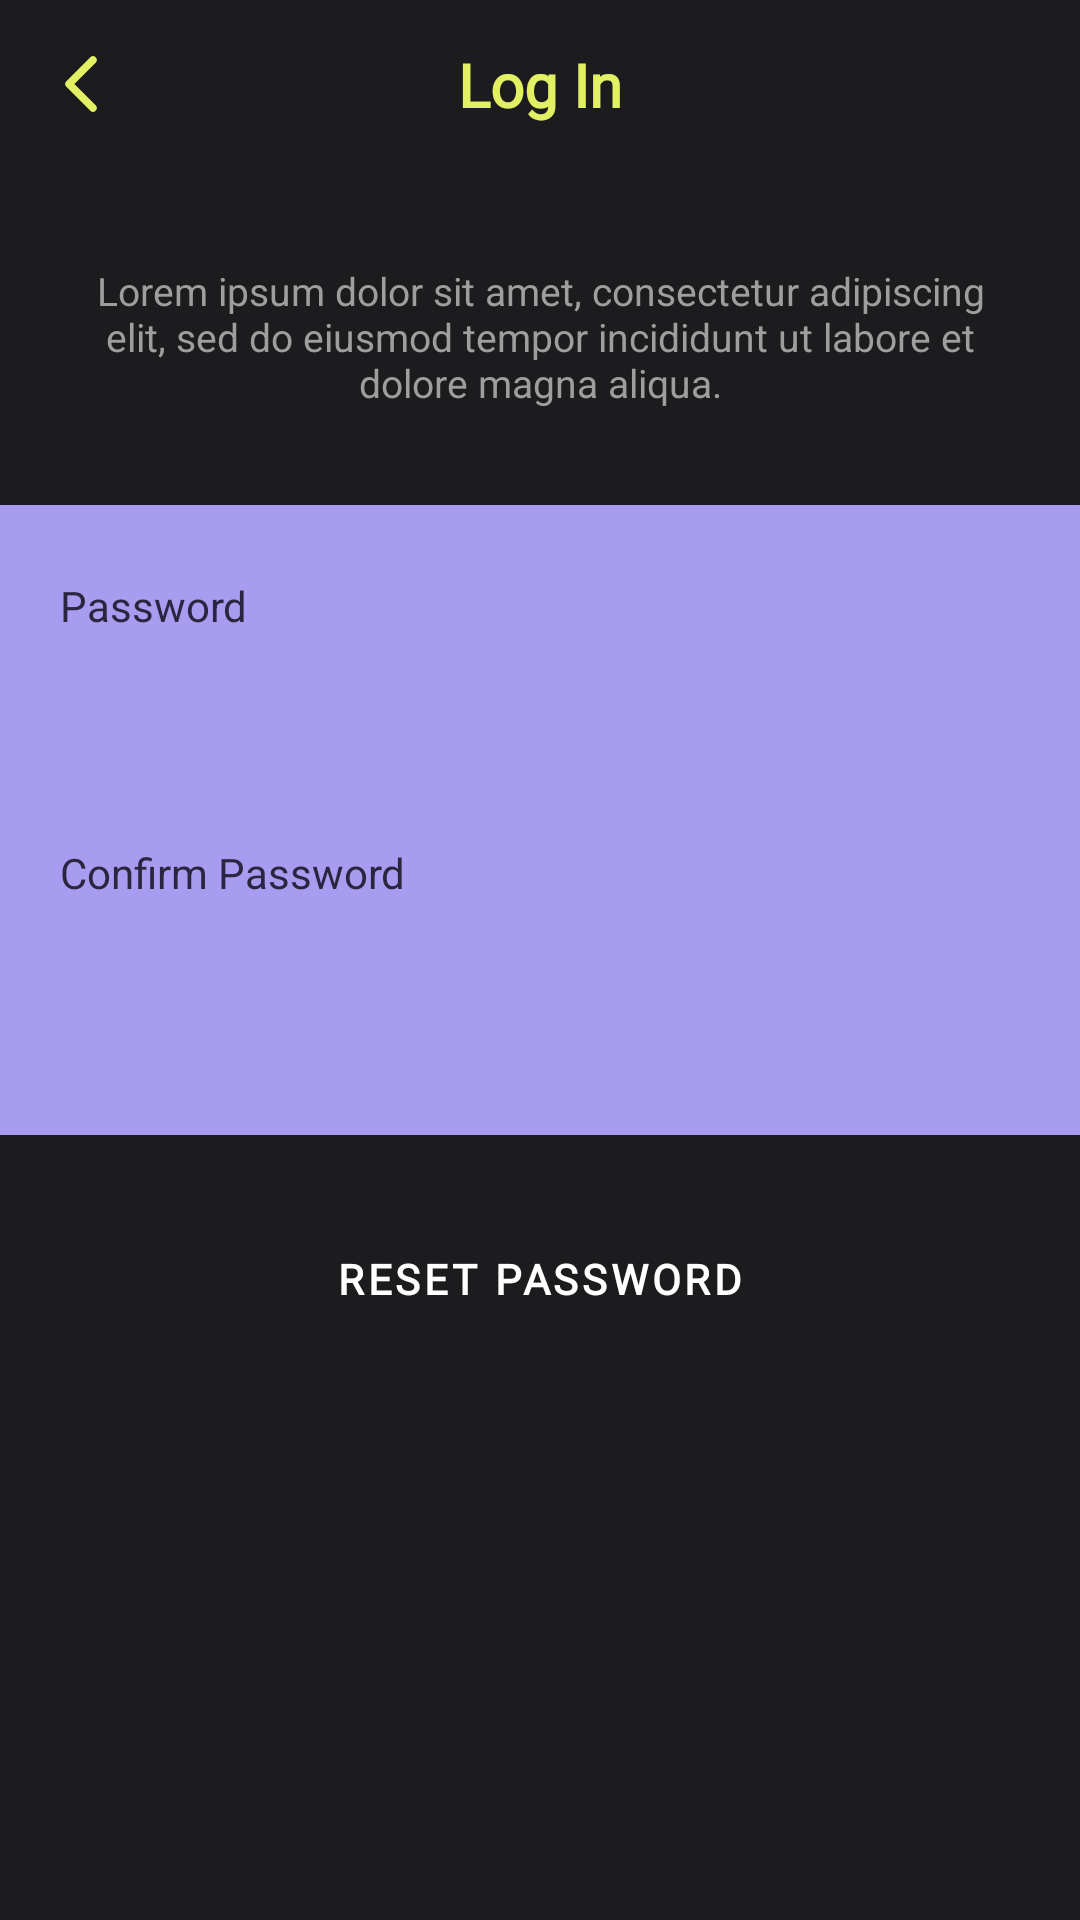

Named icons in this screenshot (1080×1920) and their bounding boxes, (x1, y1, x2, y2):
Volver: (65, 56, 97, 112)
